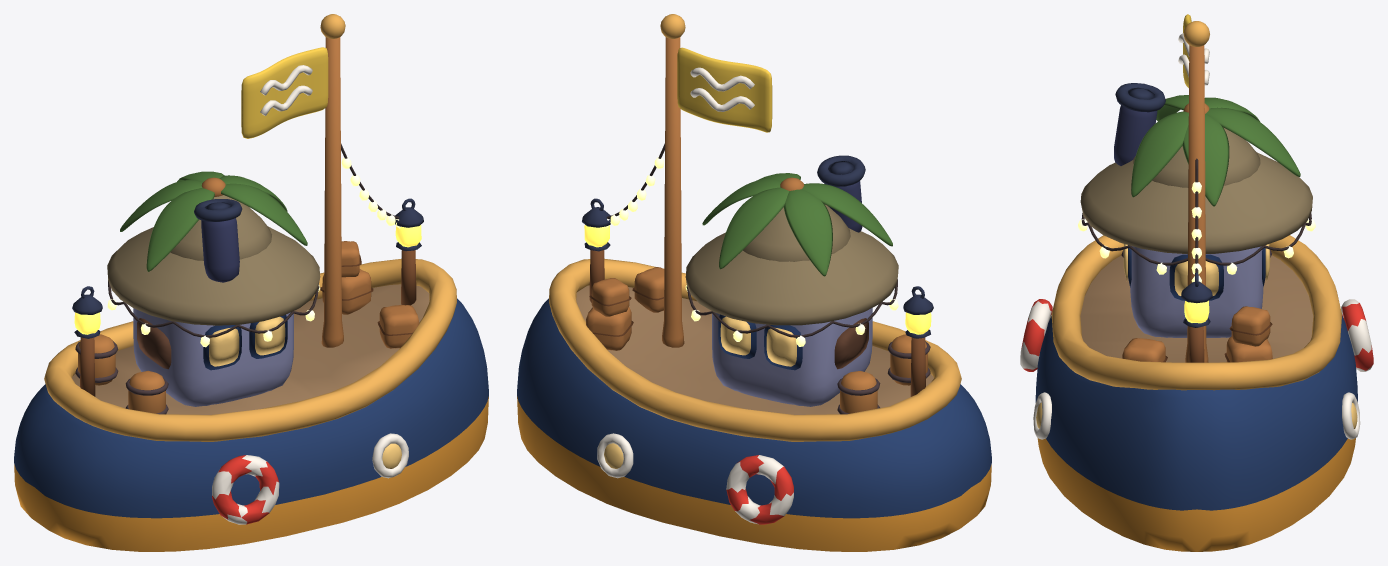
Rendered from arcilla-noche.glb.
3 renders of one model, left to right at view 1: azimuth 30°, elevation 25°; view 2: azimuth 150°, elevation 25°; view 3: azimuth 270°, elevation 25°, orthographic. The views are drawn at different scales.
Visible parts, largest first — view 1: hull, roll, roof, cabin, palm, mast, flag, windows, crates, life_rings, chimney, barrels (+6 smaller); view 2: hull, roll, roof, palm, cabin, mast, flag, crates, windows, life_rings, barrels, lanterns (+6 smaller); view 3: hull, roof, roll, palm, cabin, mast, crates, life_rings, chimney, windows, portholes, lanterns (+4 smaller).
Part boxes in pixels (bbox=[...]): hull: bbox=[14, 284, 488, 551]; roll: bbox=[44, 258, 456, 441]; roof: bbox=[107, 195, 320, 325]; cabin: bbox=[133, 308, 293, 406]; palm: bbox=[120, 171, 307, 271]; mast: bbox=[321, 37, 343, 347]; flag: bbox=[241, 47, 328, 138]; windows: bbox=[137, 314, 287, 370]; crates: bbox=[320, 241, 419, 348]; life_rings: bbox=[212, 455, 279, 524]; chimney: bbox=[194, 199, 242, 282]; barrels: bbox=[75, 334, 168, 414]; hull: bbox=[517, 285, 991, 551]; roll: bbox=[549, 258, 961, 441]; roof: bbox=[685, 204, 898, 325]; palm: bbox=[702, 173, 892, 276]; cabin: bbox=[712, 308, 872, 406]; mast: bbox=[662, 37, 684, 347]; flag: bbox=[677, 47, 772, 132]; crates: bbox=[586, 267, 664, 350]; windows: bbox=[718, 314, 868, 370]; life_rings: bbox=[726, 455, 793, 524]; barrels: bbox=[837, 334, 930, 414]; lanterns: bbox=[582, 198, 933, 338]; hull: bbox=[1035, 255, 1357, 551]; roof: bbox=[1080, 127, 1312, 254]; roll: bbox=[1051, 235, 1341, 390]; palm: bbox=[1131, 95, 1300, 206]; cabin: bbox=[1130, 246, 1263, 337]; mast: bbox=[1185, 45, 1208, 362]; crates: bbox=[1122, 306, 1272, 362]; life_rings: bbox=[1020, 299, 1373, 371]; chimney: bbox=[1114, 83, 1165, 165]; windows: bbox=[1123, 243, 1270, 300]; portholes: bbox=[1033, 392, 1360, 439]; lanterns: bbox=[1181, 272, 1212, 327].
Size of the model in its own units: 1.93 by 1.82 by 1.27.
